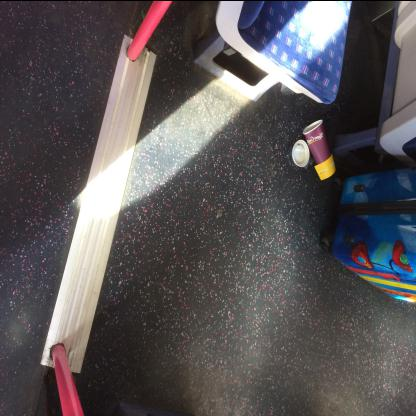karton: (302, 118, 336, 180)
plastik: (292, 138, 310, 166)
